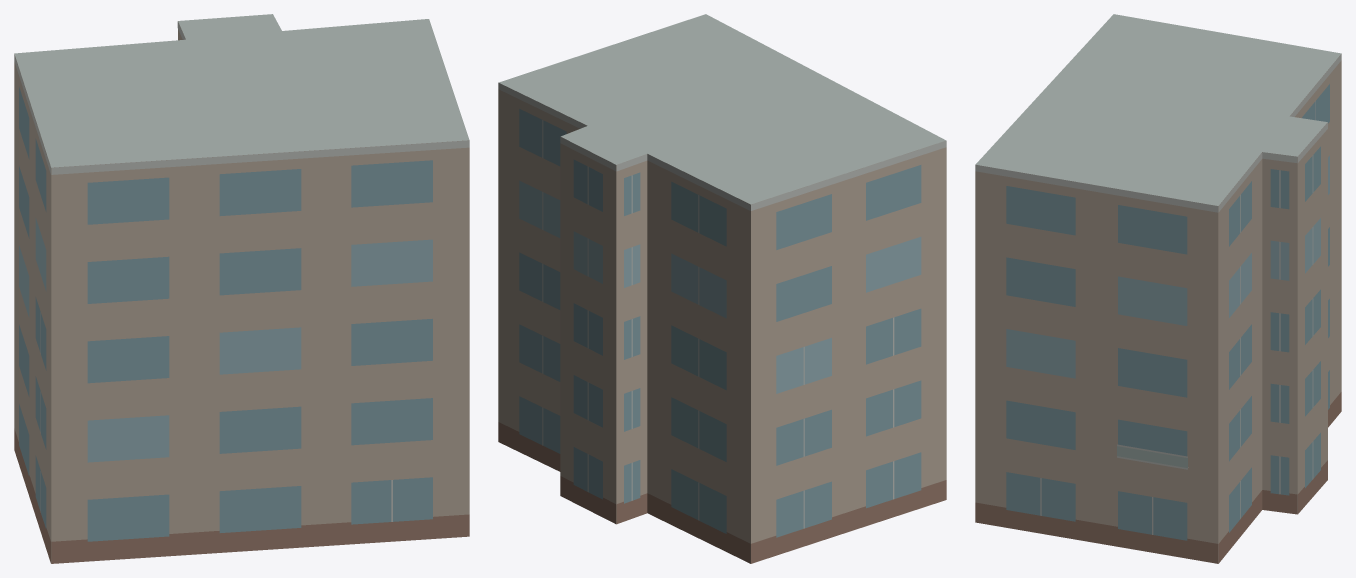
The model's file is survey-upis-32519550.glb.
The picture shows the model from 3 angles, left to right: view 1: azimuth 30°, elevation 25°; view 2: azimuth 150°, elevation 25°; view 3: azimuth 270°, elevation 25°; orthographic projection. The views are drawn at different scales.
Visible parts, largest first — view 1: survey-upis-32519550.tmp; view 2: survey-upis-32519550.tmp; view 3: survey-upis-32519550.tmp.
Part boxes in pixels (x1,y1,x2,y2): survey-upis-32519550.tmp: [14, 14, 469, 563]; survey-upis-32519550.tmp: [498, 14, 946, 563]; survey-upis-32519550.tmp: [975, 14, 1341, 563].
Size of the model in its own units: 15.21 by 13.2 by 12.26.
